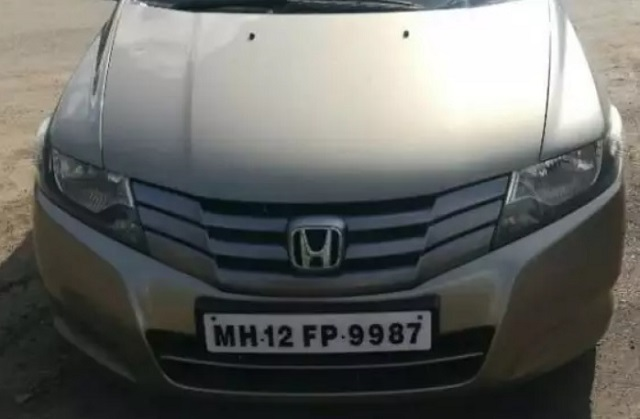licenseplate: (202, 309, 440, 360)
